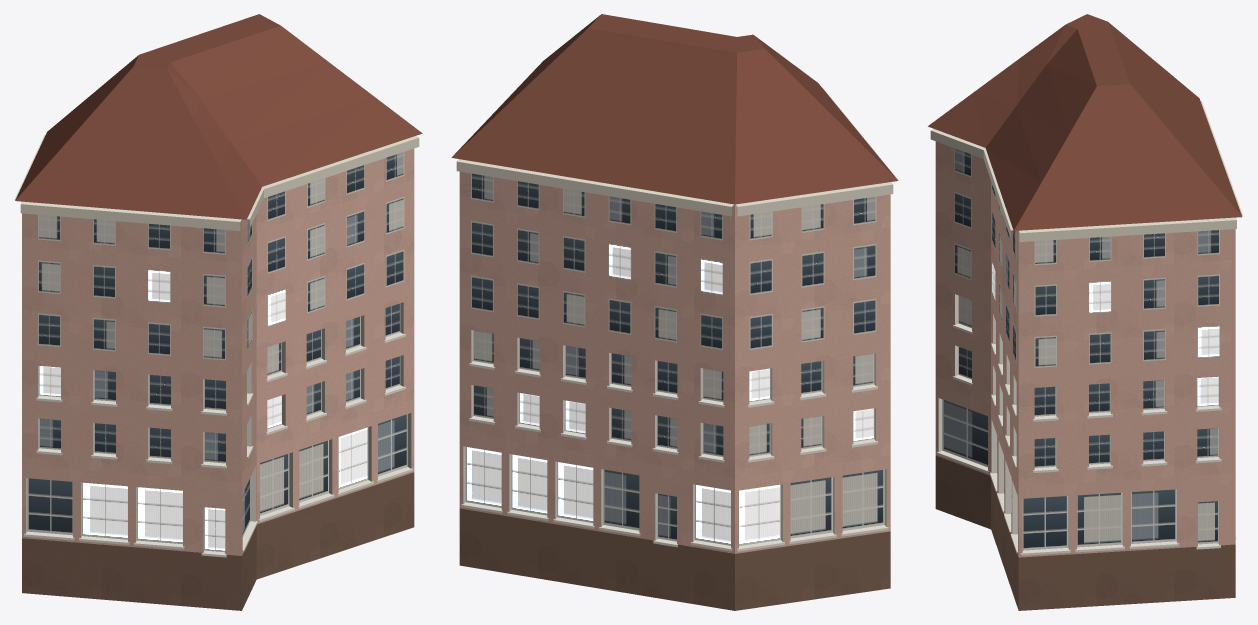
File: z3c_al_s_pink.glb
The picture shows the model from 3 angles, left to right: view 1: azimuth 30°, elevation 25°; view 2: azimuth 150°, elevation 25°; view 3: azimuth 270°, elevation 25°; orthographic projection. The views are drawn at different scales.
Parts seen in each view (by area): view 1: z3c_al_s_pink; view 2: z3c_al_s_pink; view 3: z3c_al_s_pink.
Part boxes in pixels (x1=…): z3c_al_s_pink: x1=14, y1=14, x2=422, y2=610; z3c_al_s_pink: x1=451, y1=14, x2=898, y2=610; z3c_al_s_pink: x1=928, y1=14, x2=1243, y2=610.
Bounding box in the file's own units: 21.49 × 27.02 × 16.1.
3 materials, 3 textured.
